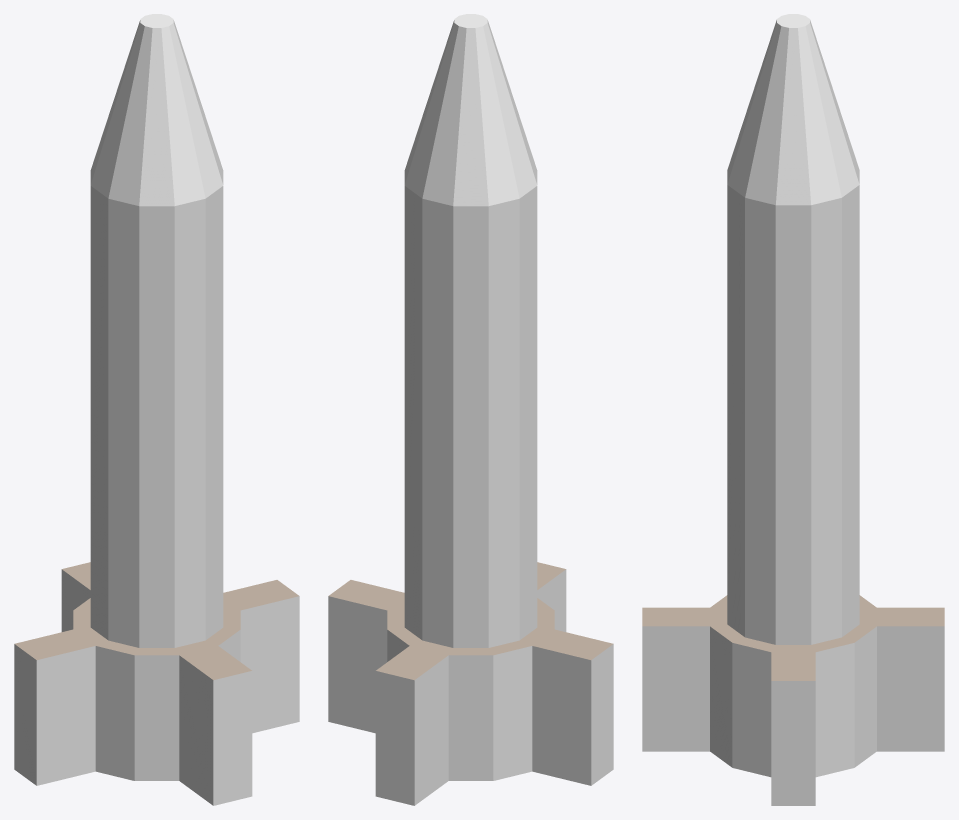
The model's file is Silo.Rocket.glb.
3 views of the same model, side by side, from view 1: azimuth 30°, elevation 25°; view 2: azimuth 150°, elevation 25°; view 3: azimuth 270°, elevation 25° (orthographic).
Parts seen in each view (by area): view 1: Silo.Rocket; view 2: Silo.Rocket; view 3: Silo.Rocket.
Part boxes in pixels (x1,y1,x2,y2): Silo.Rocket: (14, 14, 299, 805); Silo.Rocket: (328, 14, 613, 805); Silo.Rocket: (642, 14, 944, 805).
Size of the model in its own units: 0.8755 by 2.31 by 0.8755.
Materials: 1 (1 with a texture image).
